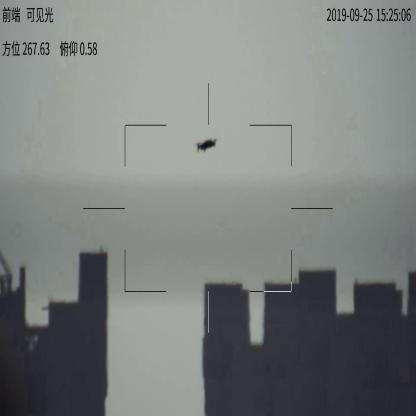uav: (196, 136, 217, 154)
